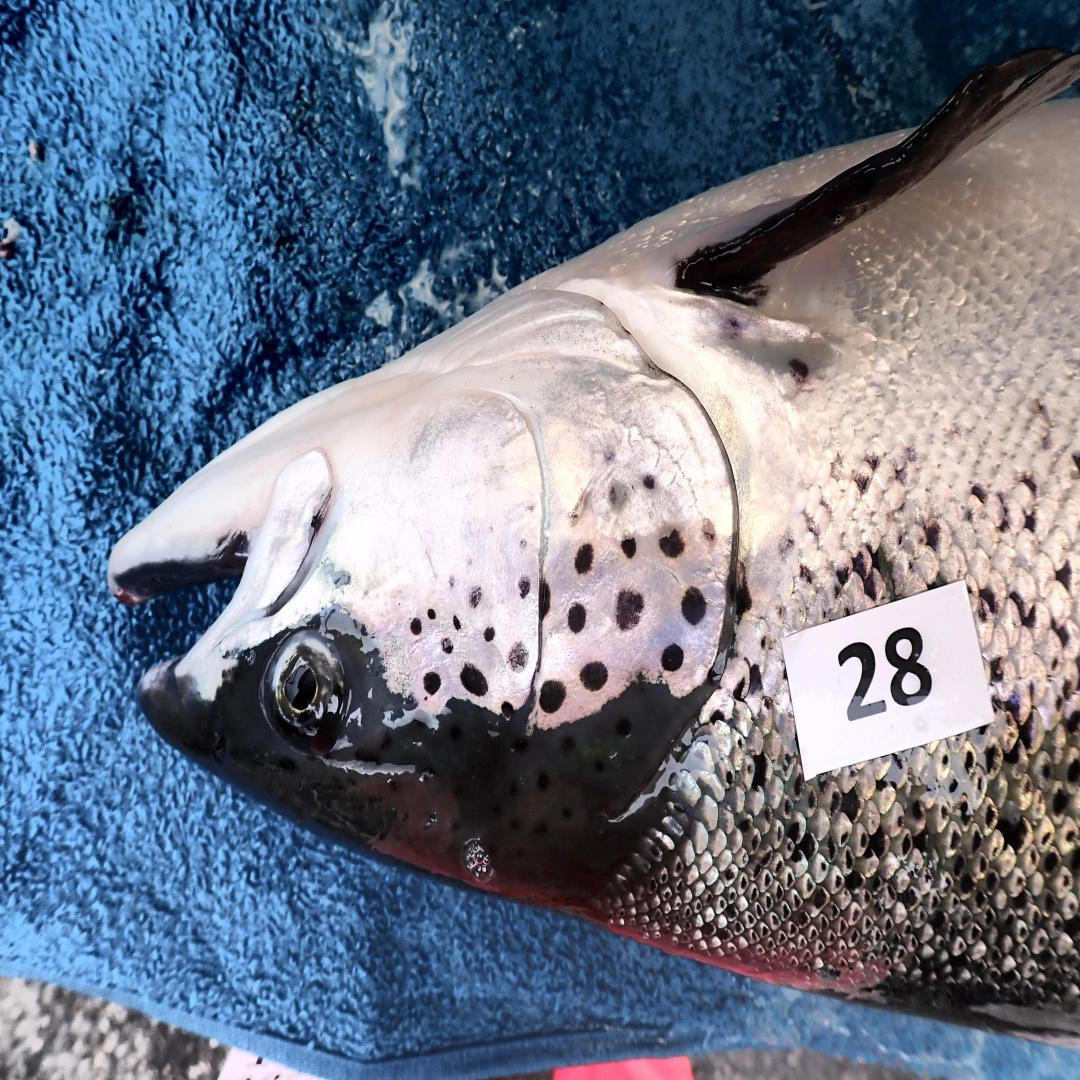spot: (616, 591, 643, 630), (681, 588, 707, 624), (460, 664, 487, 698), (580, 661, 608, 692), (540, 681, 565, 714), (658, 529, 686, 557), (599, 433, 620, 467), (574, 543, 595, 574), (508, 641, 529, 672), (660, 644, 683, 672), (567, 602, 586, 633), (608, 482, 628, 509), (538, 579, 551, 619), (700, 518, 717, 546), (620, 537, 637, 560), (424, 672, 441, 695), (468, 585, 483, 608), (500, 700, 515, 720), (409, 616, 422, 636), (641, 472, 656, 489), (441, 638, 454, 655), (519, 577, 529, 599), (483, 627, 496, 641), (447, 574, 458, 588), (517, 537, 527, 551), (426, 608, 437, 619), (454, 616, 460, 630), (525, 505, 535, 512)
